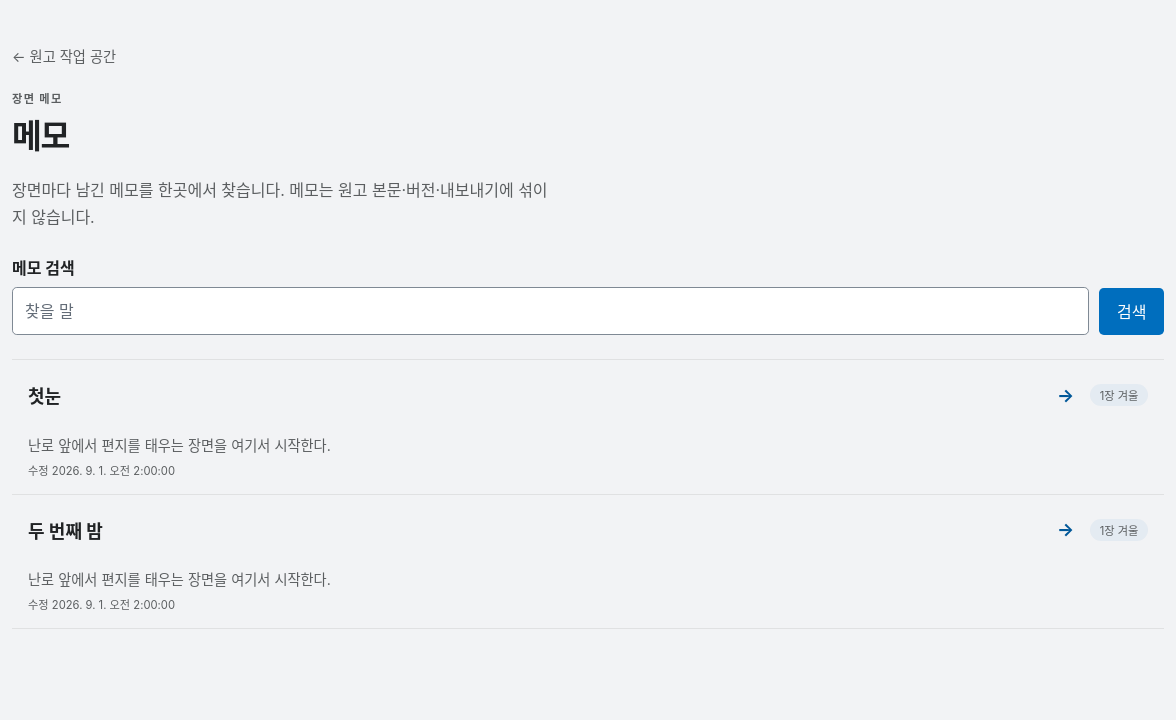
Test: 장면 메모 화면 › hands the search box to the server instead of filtering in the browser
The width and height of the screenshot is (1176, 720).
Expected: the link "첫눈 →" is shown, [28,385,1074,407]
Type "편지" into the search field labelled "메모 검색" at coordinates (550, 311), box [12,287,1089,335]
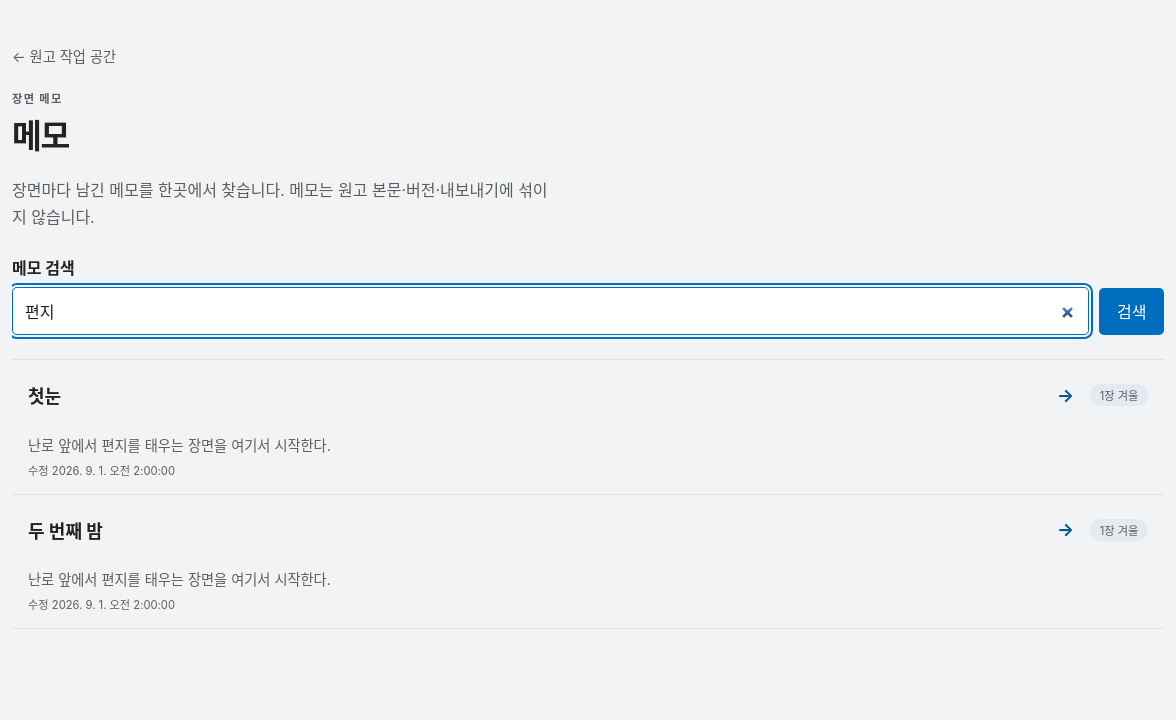
Click the button "검색" at coordinates (1132, 311), box [1099,288,1164,335]
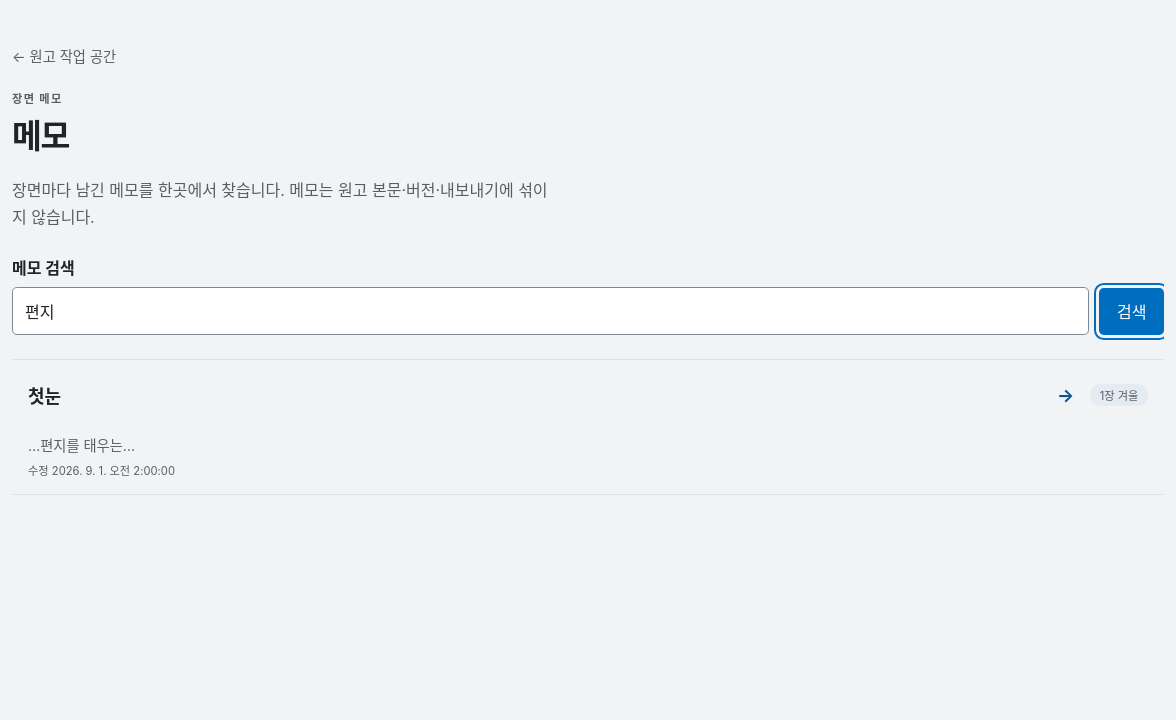
Expected: the link "첫눈 →" is shown, [28,385,1074,407]
Expected: the text "…편지를 태우는…" is shown, [28,437,135,454]
Expected: the number of list items is 1, [12,360,1164,494]
